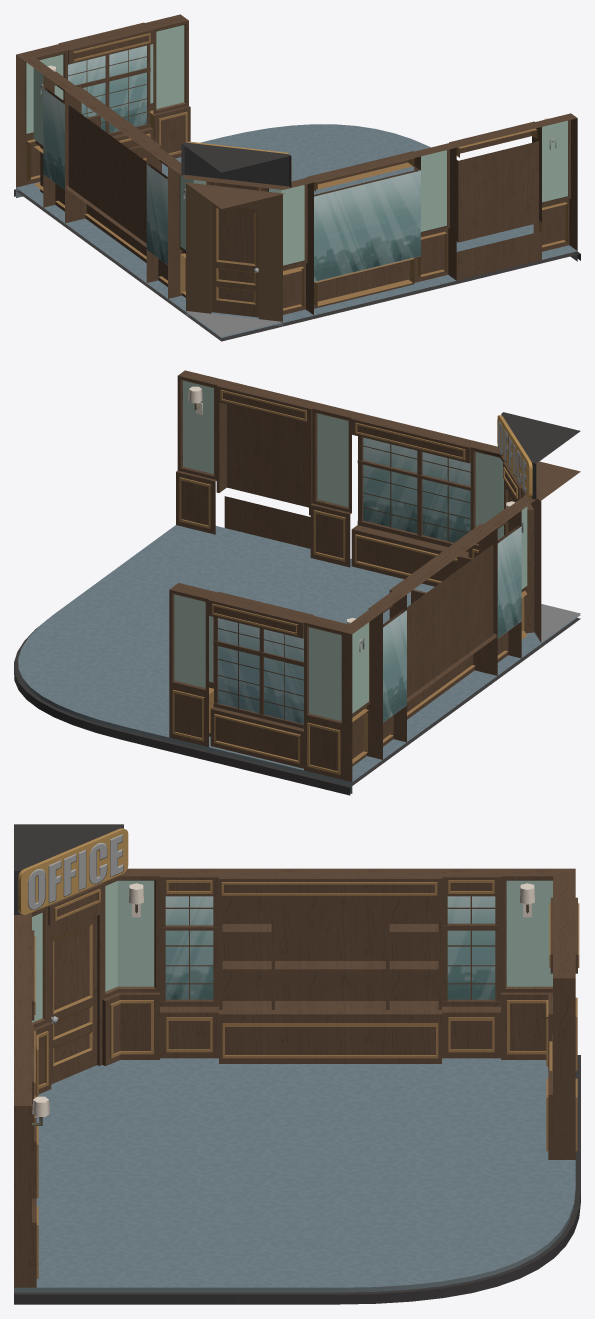
The model's file is interior_F_001.fbx.
3 renders of one model, top to bottom at view 1: azimuth 30°, elevation 25°; view 2: azimuth 150°, elevation 25°; view 3: azimuth 270°, elevation 25°, orthographic. The views are drawn at different scales.
Parts seen in each view (by area): view 1: interior_F_001; view 2: interior_F_001; view 3: interior_F_001.
Part boxes in pixels (x1,y1,x2,y2): interior_F_001: [14, 14, 580, 341]; interior_F_001: [14, 370, 580, 795]; interior_F_001: [14, 824, 580, 1304].
Bounding box in the file's own units: 707 × 331 × 707.
